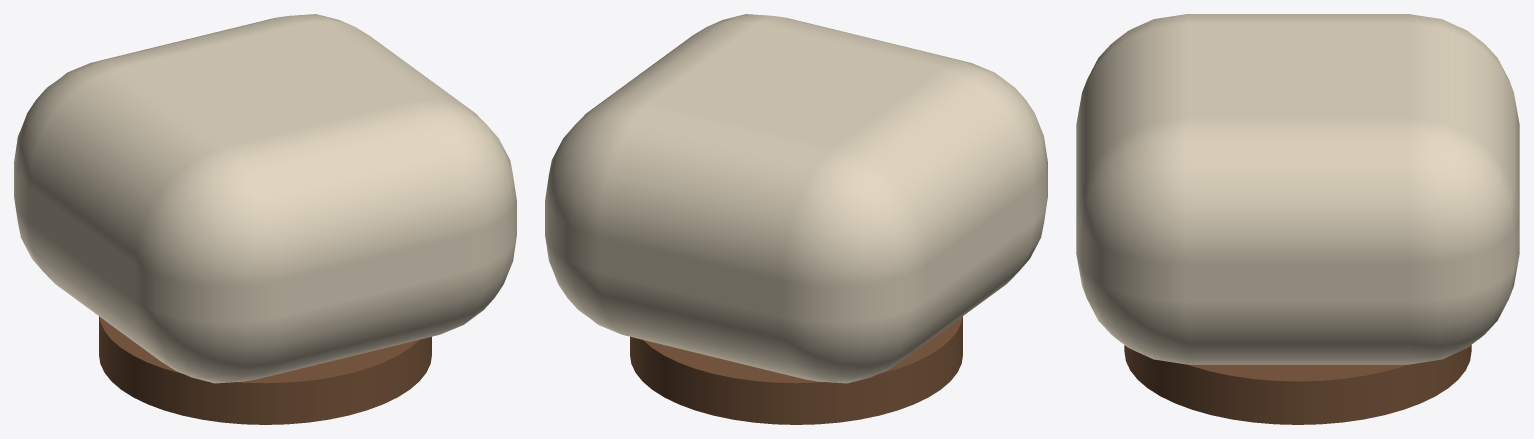
The model's file is pebble-stool-cream.glb.
The picture shows the model from 3 angles, left to right: view 1: azimuth 30°, elevation 25°; view 2: azimuth 150°, elevation 25°; view 3: azimuth 270°, elevation 25°; orthographic projection. The views are drawn at different scales.
Visible parts, largest first — view 1: The Pebble Ottoman — Cream; view 2: The Pebble Ottoman — Cream; view 3: The Pebble Ottoman — Cream.
Boxes of the visible parts, left/top/right/bottom form: The Pebble Ottoman — Cream: left=14, top=14, right=516, bottom=424; The Pebble Ottoman — Cream: left=545, top=14, right=1047, bottom=424; The Pebble Ottoman — Cream: left=1076, top=14, right=1519, bottom=424.
Bounding box in the file's own units: 0.6 × 0.42 × 0.6.
